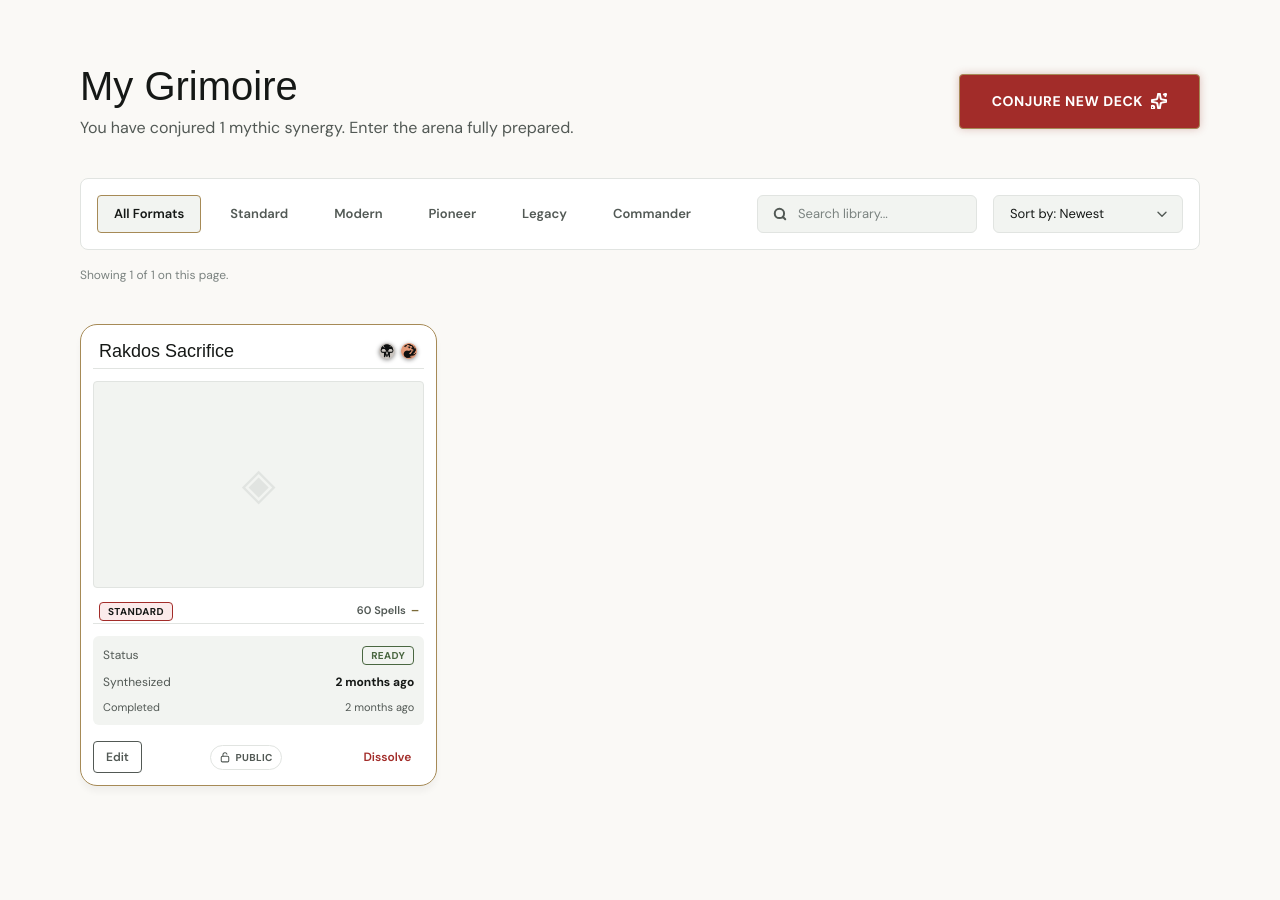
Test: LibraryPage › flips the visibility lock at once and persists it (MTG-24)
Step 1. Click the button with aria-label "Make private: Rakdos Sacrifice" → {"x": 246, "y": 757}, box [210,745,282,770]
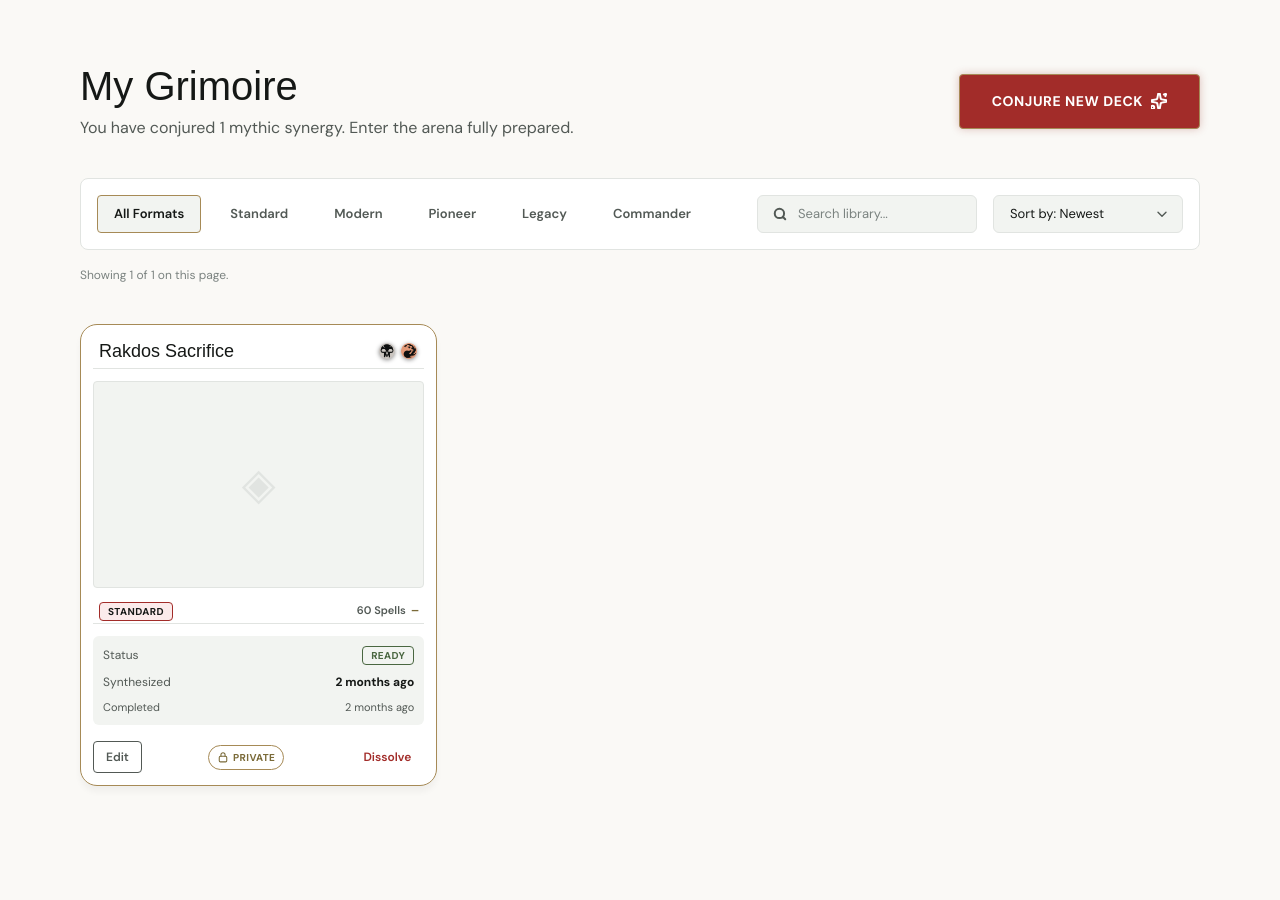
Expected: the button with aria-label "Make public: Rakdos Sacrifice" reads "Private", [208,745,284,770]
